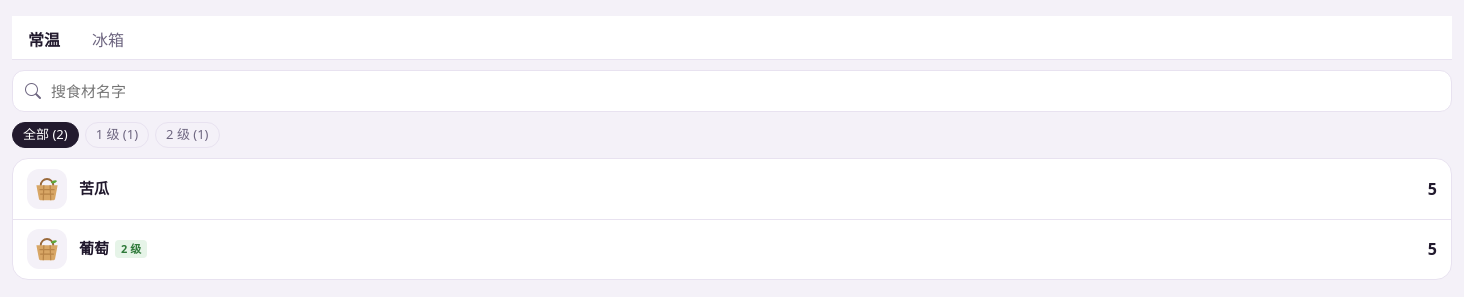
CupboardView › 搜索时选着的等级里没有结果：那个胶囊还在（数是 0），写这一级没有
The width and height of the screenshot is (1464, 297).
Click the button with test id "level-2".
click(187, 135)  # box [155, 122, 220, 148]
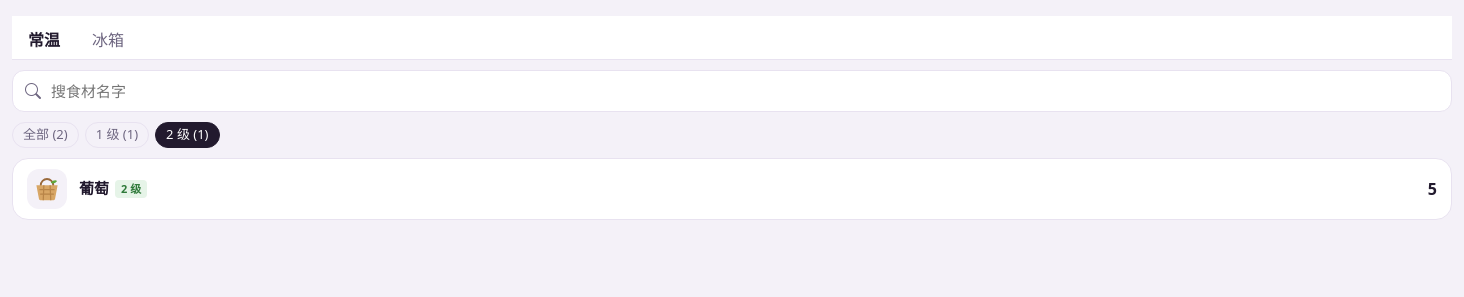
Type "瓜" into the search field with test id "cupboard-q".
click(744, 91); type("瓜")  # box [49, 79, 1439, 103]
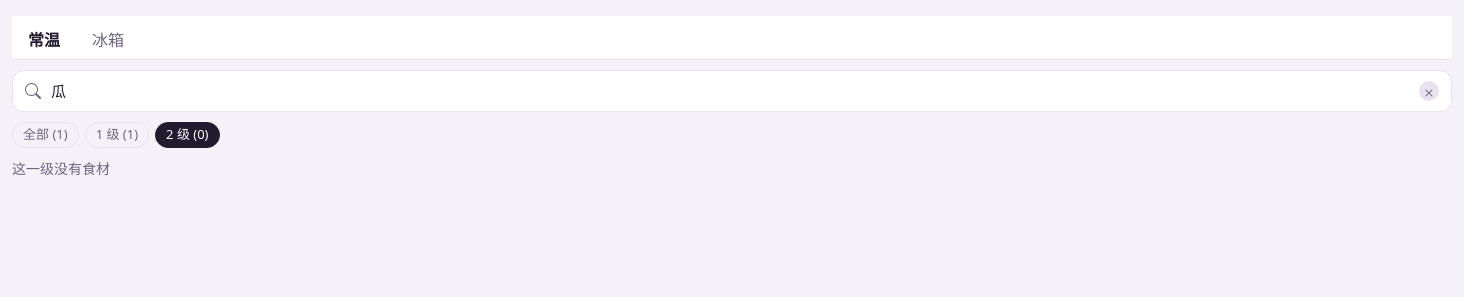
Expected: the button with test id "level-2" reads "2 级 (0)", [155, 122, 220, 148]
Expected: the text "这一级没有食材" is shown, [12, 158, 110, 178]
